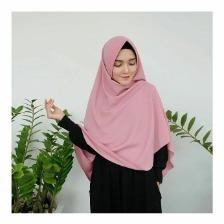HijabSyar-i: (80, 32, 178, 172)
